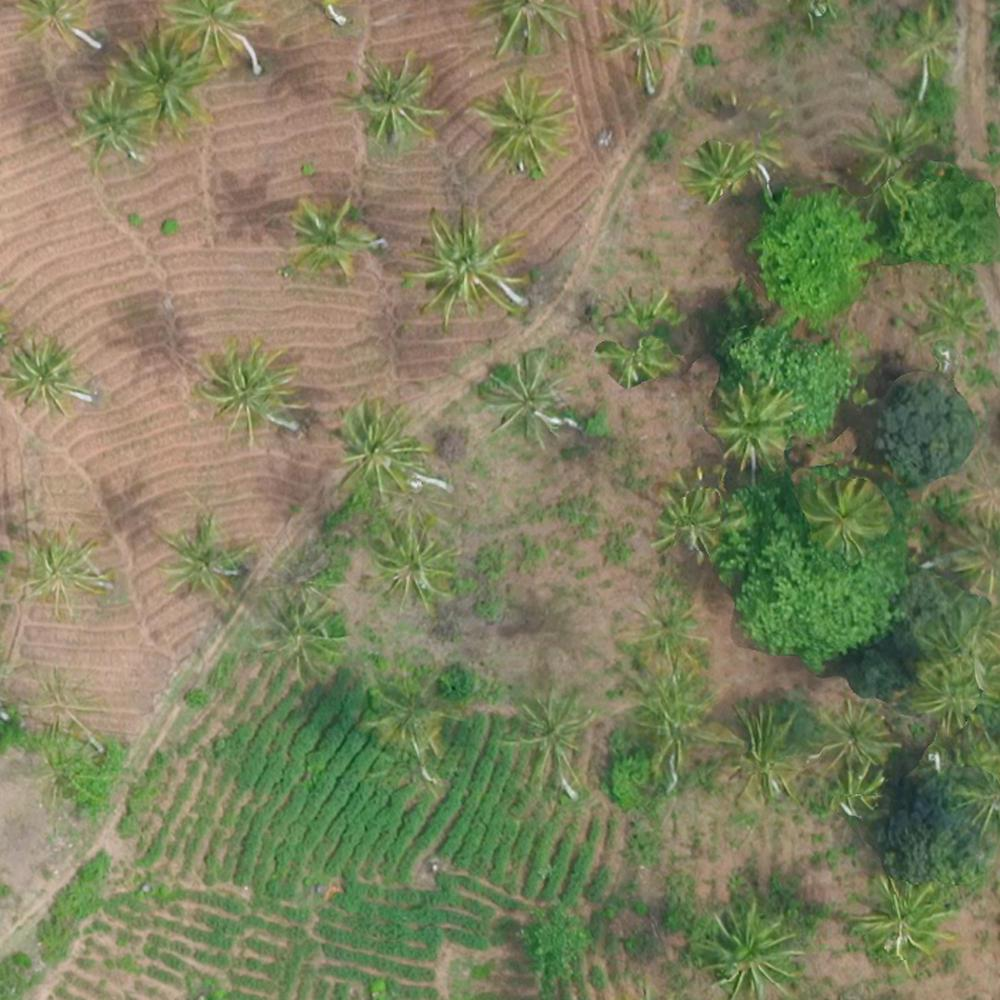Palm: (411, 211, 522, 319), (198, 343, 304, 439), (699, 901, 805, 995), (851, 873, 959, 965), (116, 25, 209, 125), (330, 401, 427, 493), (372, 510, 462, 608), (475, 75, 570, 167), (152, 512, 251, 600), (345, 50, 438, 141), (19, 525, 111, 616), (722, 709, 810, 801), (282, 195, 377, 280), (480, 350, 571, 438), (710, 380, 795, 469), (599, 1, 691, 80), (801, 476, 894, 552), (2, 334, 84, 417), (846, 108, 933, 186), (70, 86, 153, 167), (652, 478, 731, 554), (164, 5, 258, 67), (815, 699, 894, 767)
